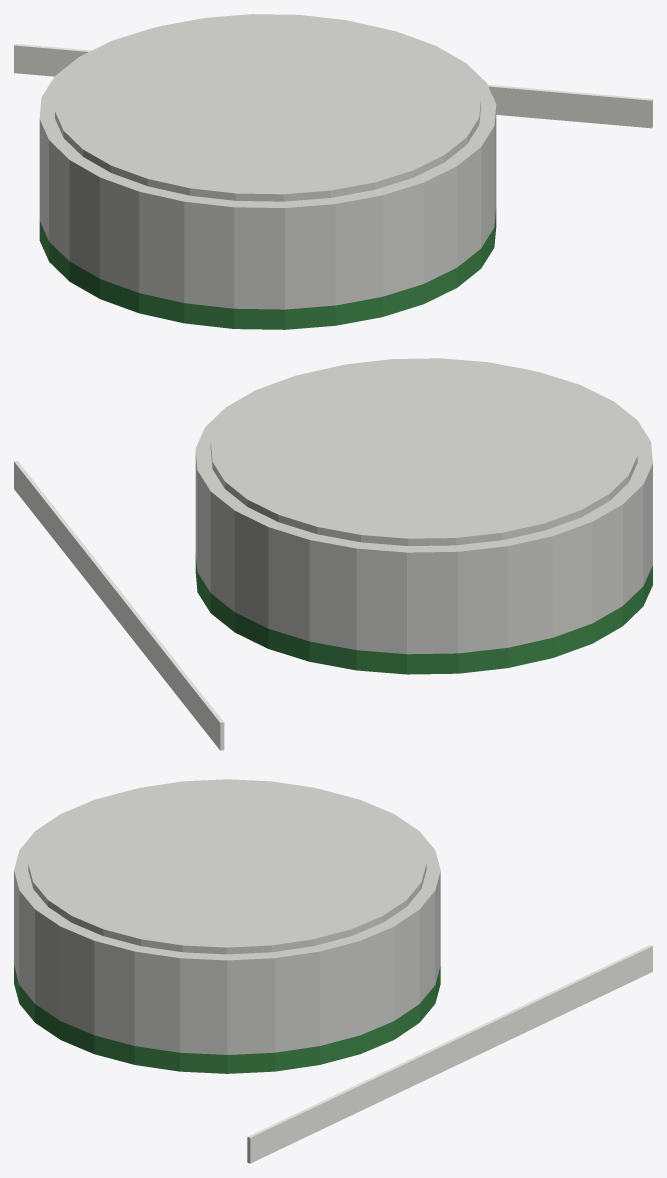
The model's file is lgs_tank.glb.
The picture shows the model from 3 angles, top to bottom: view 1: azimuth 30°, elevation 25°; view 2: azimuth 150°, elevation 25°; view 3: azimuth 270°, elevation 25°; orthographic projection. The views are drawn at different scales.
Parts seen in each view (by area): view 1: lgs_tank_lod0; view 2: lgs_tank_lod0; view 3: lgs_tank_lod0.
Boxes of the visible parts, <box> form: lgs_tank_lod0: <box>14,14,652,329</box>; lgs_tank_lod0: <box>14,358,652,750</box>; lgs_tank_lod0: <box>14,779,652,1163</box>.
Size of what is drawn, in the model's own units: 67.57 by 14 by 67.38.
